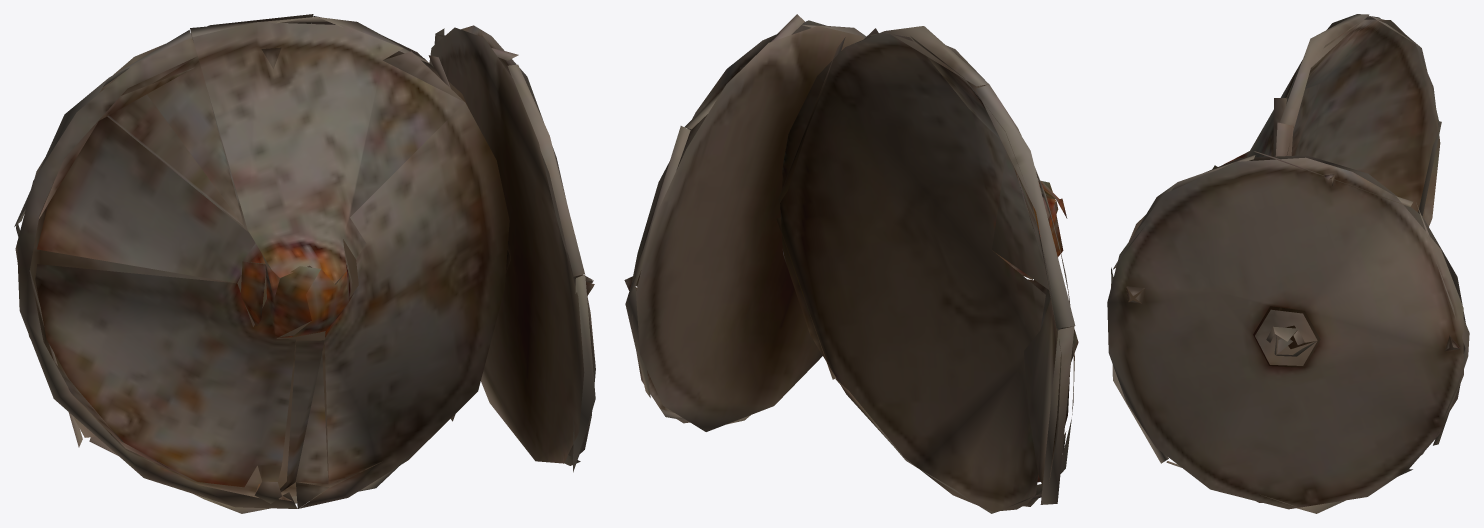
File: g_shield_clan_lod1.fbx
3 views of the same model, side by side, from view 1: azimuth 30°, elevation 25°; view 2: azimuth 150°, elevation 25°; view 3: azimuth 270°, elevation 25° (orthographic). The views are drawn at different scales.
Parts seen in each view (by area): view 1: tripo_node_bda288e0-20b3-4bfe-ad0e-2ef2b10f4140; view 2: tripo_node_bda288e0-20b3-4bfe-ad0e-2ef2b10f4140; view 3: tripo_node_bda288e0-20b3-4bfe-ad0e-2ef2b10f4140.
Part boxes in pixels (left/top/right/bottom): tripo_node_bda288e0-20b3-4bfe-ad0e-2ef2b10f4140: left=14, top=14, right=595, bottom=513; tripo_node_bda288e0-20b3-4bfe-ad0e-2ef2b10f4140: left=624, top=14, right=1078, bottom=513; tripo_node_bda288e0-20b3-4bfe-ad0e-2ef2b10f4140: left=1107, top=14, right=1469, bottom=513.
Size of the model in its own units: 0.855 by 0.849 by 0.6964.
